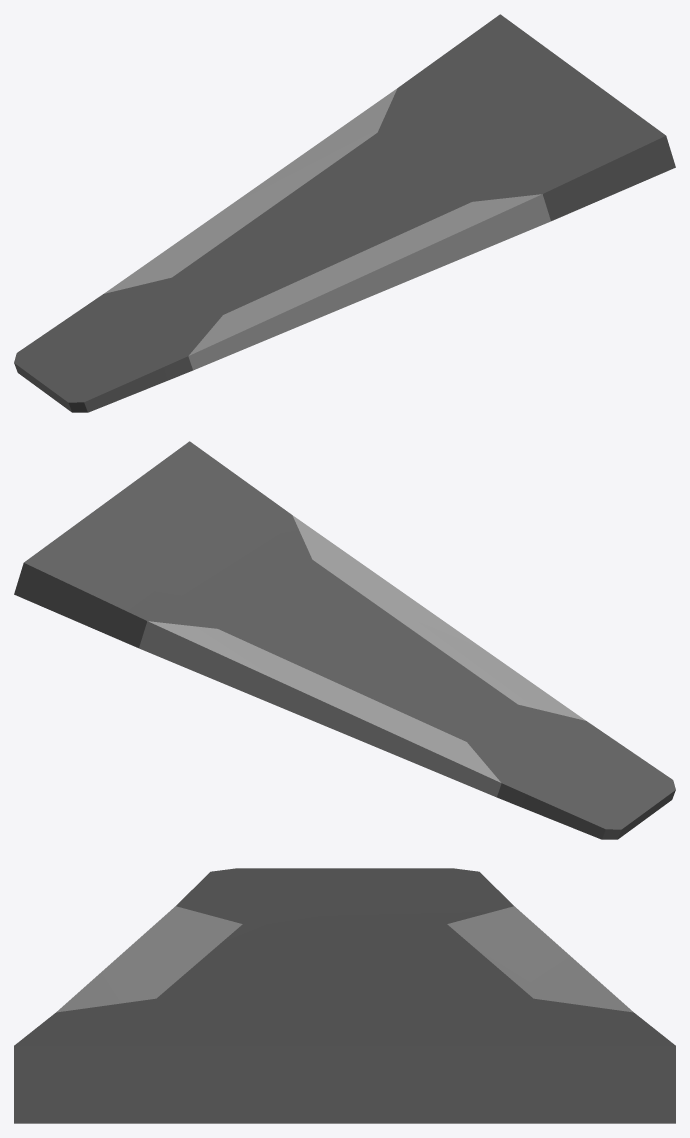
The model's file is WingRearRight_001.fbx.
3 views of the same model, one above another, from view 1: azimuth 30°, elevation 25°; view 2: azimuth 150°, elevation 25°; view 3: azimuth 270°, elevation 25° (orthographic). The views are drawn at different scales.
Parts seen in each view (by area): view 1: WingRearRight_001; view 2: WingRearRight_001; view 3: WingRearRight_001.
Part boxes in pixels (<box>): WingRearRight_001: <box>14,14,675,412</box>; WingRearRight_001: <box>14,441,675,839</box>; WingRearRight_001: <box>14,868,675,1123</box>.
Size of the model in its own units: 502 by 261 by 162.
